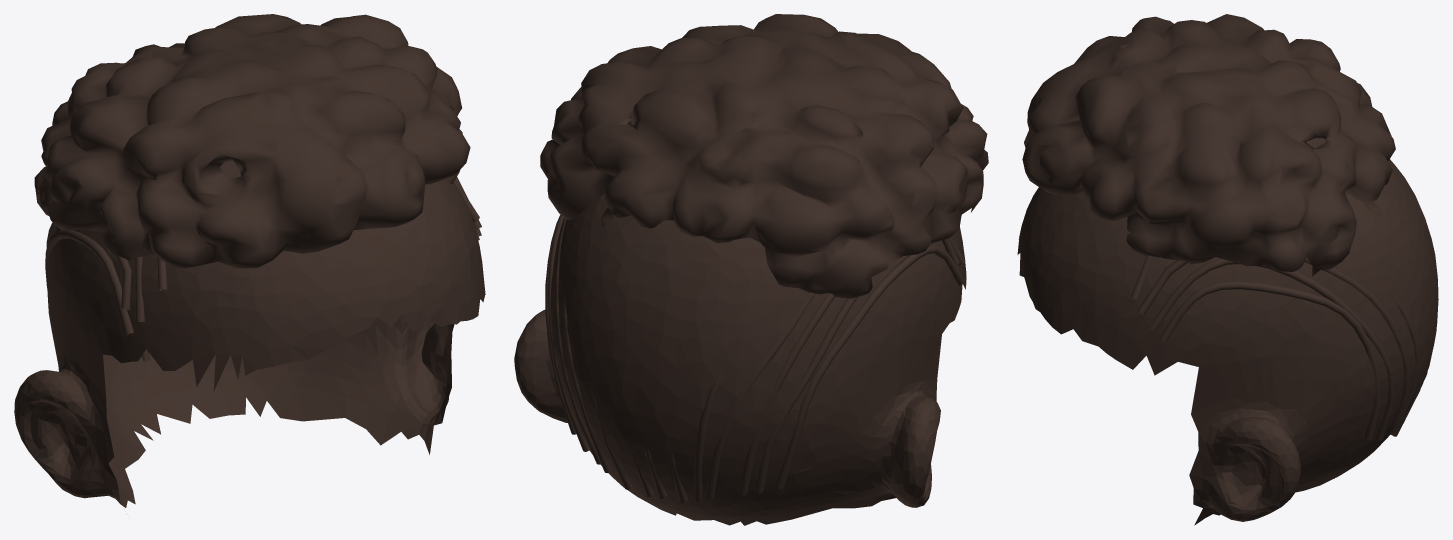
Rendered from curls.glb.
The picture shows the model from 3 angles, left to right: view 1: azimuth 30°, elevation 25°; view 2: azimuth 150°, elevation 25°; view 3: azimuth 270°, elevation 25°; orthographic projection. The views are drawn at different scales.
Parts seen in each view (by area): view 1: Hair, HairScalp, HairPulledRootStrands; view 2: HairScalp, Hair, HairPulledRootStrands; view 3: HairScalp, Hair, HairPulledRootStrands.
Part boxes in pixels (x1=…): Hair: x1=34, y1=14, x2=470, y2=268; HairScalp: x1=14, y1=161, x2=485, y2=507; HairPulledRootStrands: x1=45, y1=177, x2=481, y2=361; HairScalp: x1=514, y1=193, x2=966, y2=525; Hair: x1=540, y1=14, x2=988, y2=298; HairPulledRootStrands: x1=545, y1=124, x2=965, y2=503; HairScalp: x1=1017, y1=137, x2=1438, y2=525; Hair: x1=1022, y1=14, x2=1395, y2=276; HairPulledRootStrands: x1=1130, y1=255, x2=1437, y2=440.
Size of the model in its own units: 0.4735 by 0.4592 by 0.4397.
